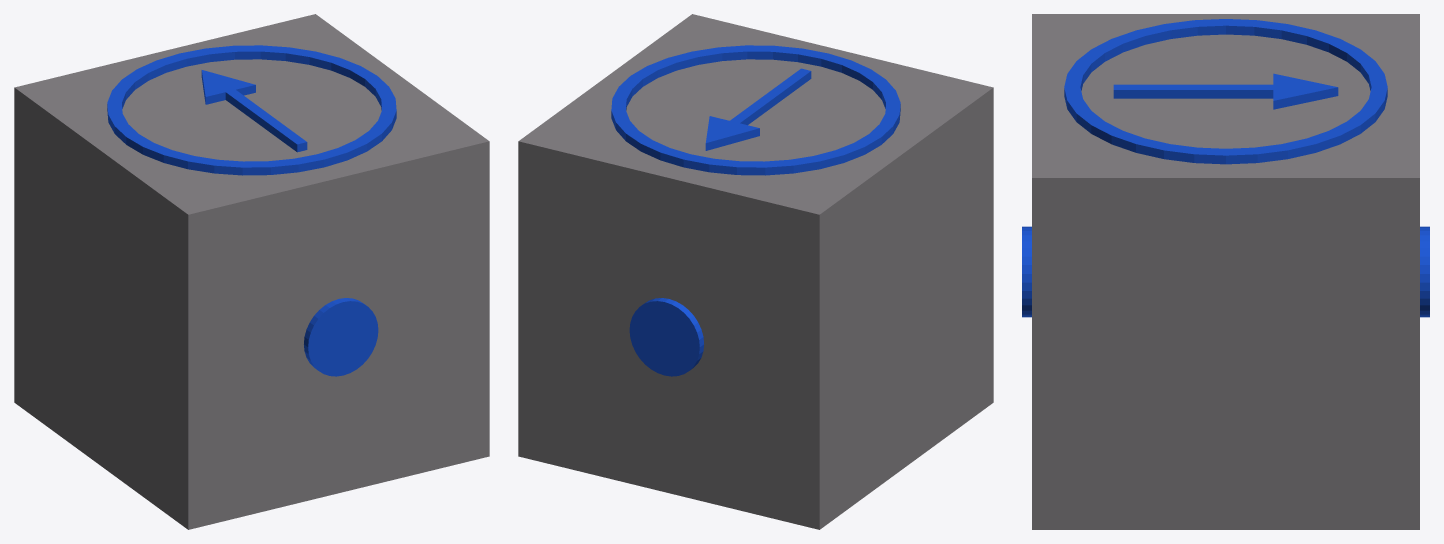
File: current_source_on.fbx
3 renders of one model, left to right at view 1: azimuth 30°, elevation 25°; view 2: azimuth 150°, elevation 25°; view 3: azimuth 270°, elevation 25°, orthographic. The views are drawn at different scales.
Visible parts, largest first — view 1: Cube, Cylinder.001, Cylinder.002, Cylinder; view 2: Cube, Cylinder.001, Cylinder.003, Cylinder; view 3: Cube, Cylinder.001, Cylinder, Cylinder.002, Cylinder.003.
Part boxes in pixels (x1,y1,x2,y2): Cube: (14, 14, 489, 529); Cylinder.001: (107, 45, 396, 175); Cylinder.002: (304, 298, 378, 376); Cylinder: (201, 70, 307, 152); Cube: (518, 14, 993, 529); Cylinder.001: (611, 45, 900, 175); Cylinder.003: (629, 298, 703, 376); Cylinder: (705, 68, 811, 150); Cube: (1032, 14, 1419, 529); Cylinder.001: (1064, 19, 1387, 164); Cylinder: (1113, 73, 1338, 109); Cylinder.002: (1022, 226, 1031, 317); Cylinder.003: (1420, 226, 1429, 317).
Bounding box in the file's own units: 600 × 615 × 630.
